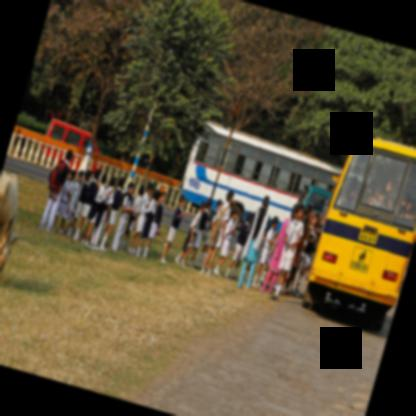backpack: (208, 204, 229, 248), (48, 161, 68, 192)
